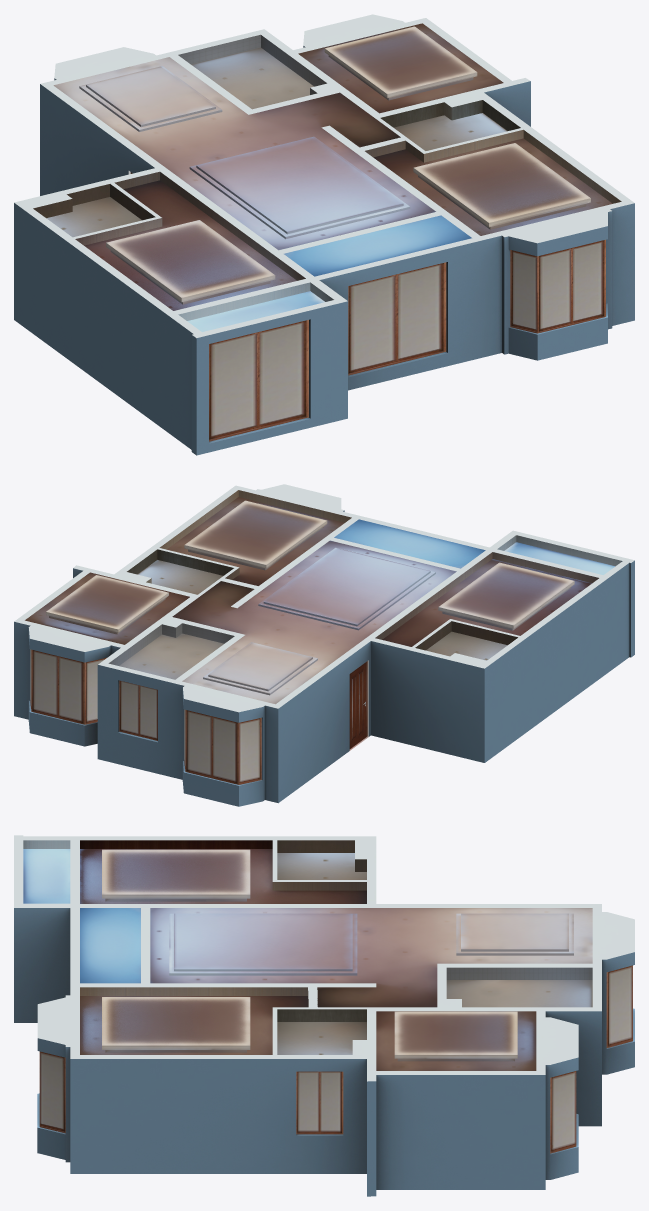
Rendered from all2.DAE.
3 views of the same model, one above another, from view 1: azimuth 30°, elevation 25°; view 2: azimuth 150°, elevation 25°; view 3: azimuth 270°, elevation 25° (orthographic). The views are drawn at different scales.
Visible parts, largest first — view 1: waiqiang, diaoding1, diaoding2, window, neiqiang4, neiqiang3, neiqiang2; view 2: waiqiang, diaoding1, diaoding2, window, neiqiang4, neiqiang3, neiqiang2, door; view 3: waiqiang, diaoding1, diaoding2, window, neiqiang4, neiqiang2, beijingqiang, neiqiang3.
Part boxes in pixels (x1,y1,x2,y2): waiqiang: (14, 14, 634, 455); diaoding1: (53, 47, 471, 276); diaoding2: (46, 23, 612, 331); window: (209, 239, 605, 441); neiqiang4: (33, 34, 520, 220); neiqiang3: (75, 171, 333, 320); neiqiang2: (365, 129, 621, 203); waiqiang: (14, 484, 634, 806); diaoding1: (119, 519, 485, 704); diaoding2: (25, 497, 614, 660); window: (30, 649, 261, 784); neiqiang4: (108, 549, 517, 665); neiqiang3: (375, 535, 620, 639); neiqiang2: (159, 490, 351, 579); door: (349, 661, 367, 748); waiqiang: (14, 835, 634, 1196); diaoding1: (80, 908, 592, 1007); diaoding2: (23, 849, 536, 1070); window: (39, 965, 632, 1153); neiqiang4: (277, 840, 592, 1021); neiqiang2: (80, 987, 308, 1006); beijingqiang: (80, 840, 272, 848); neiqiang3: (23, 840, 366, 890).
Bounding box in the file's own units: 1238 × 1320 × 288.
36 materials, 36 textured.
